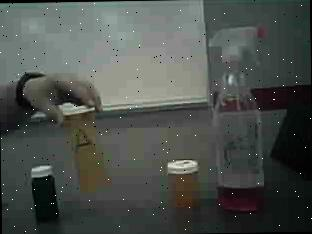Bottle A: (60, 99, 112, 192)
Bottle B: (162, 153, 206, 214)
Bottle C: (26, 164, 63, 226)
hazard: (206, 21, 284, 216)
